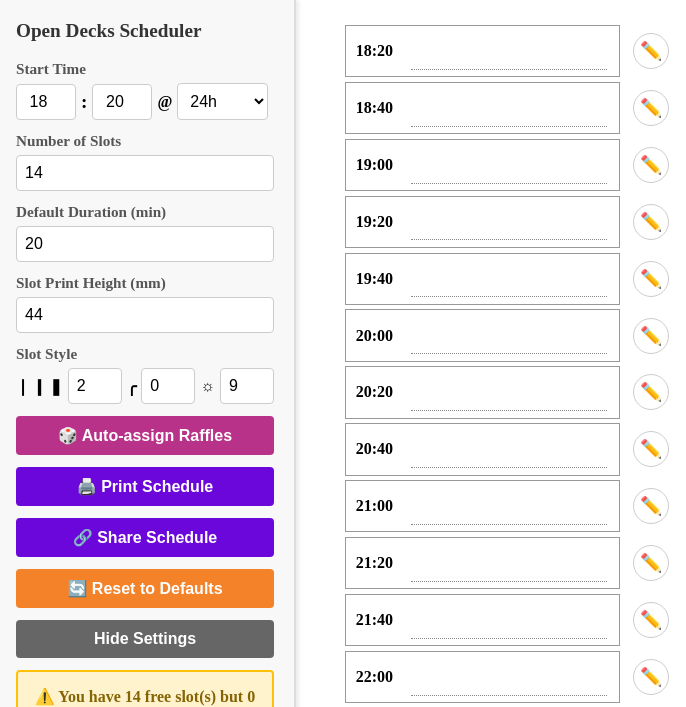
Test case: App Component › Time format switching › should display times in 12h format when selected
Note: Set start time to 14:00 (2 PM in 24h)
Replace the text in the number field named "Start hour" with "14" at [46, 102], box [16,84,76,120]
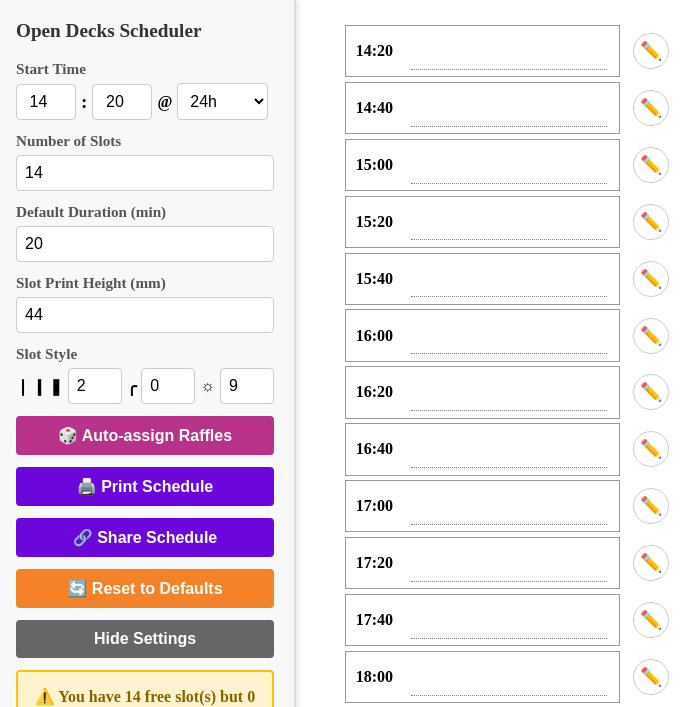
Note: Switch to 12h format
Select "AM/PM" in the dropdown named "Time format" at [223, 102], box [177,83,268,120]
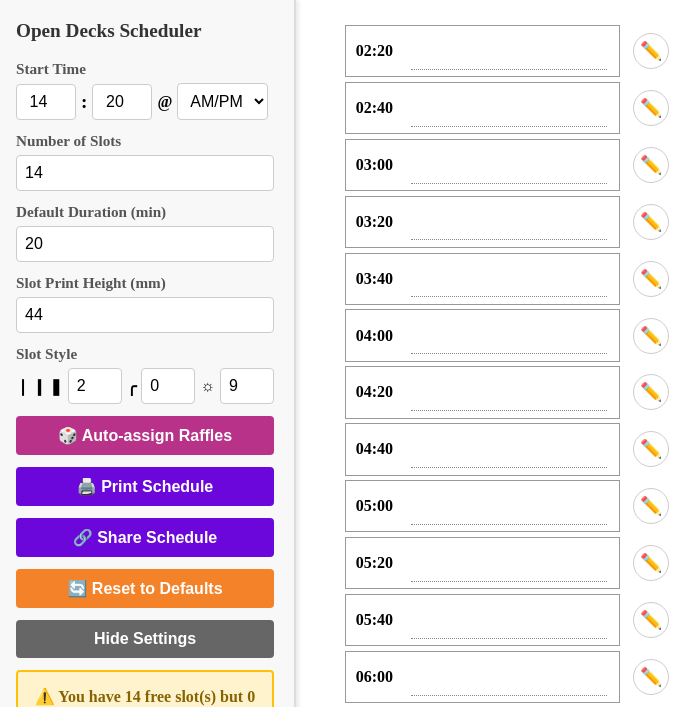
Result: the text "02:20" is shown at [356,42,393,60]
